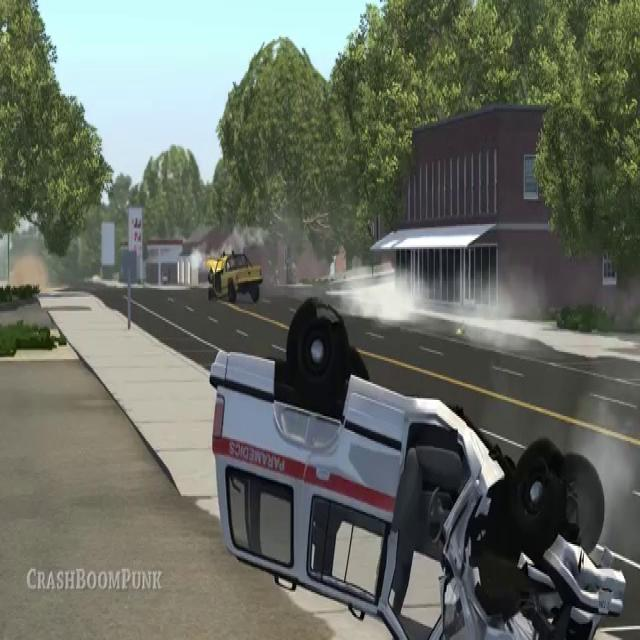accident: (203, 282, 630, 640)
